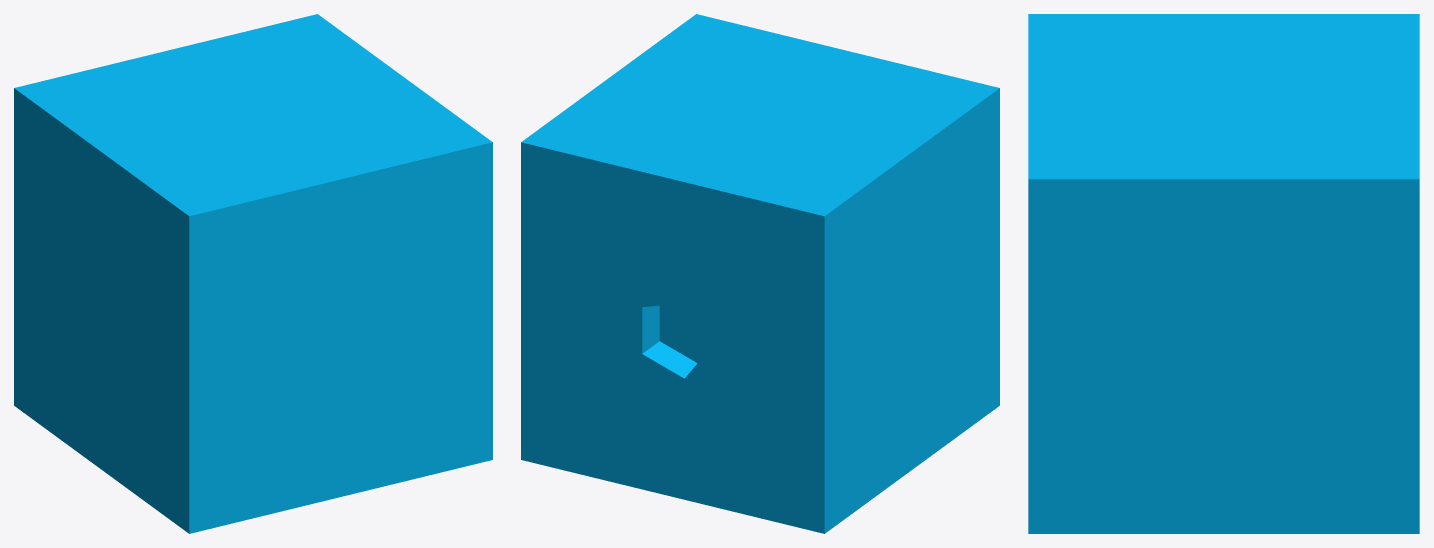
File: gt_Y_arka_yuzey_besgen_cep.gltf
3 views of the same model, side by side, from view 1: azimuth 30°, elevation 25°; view 2: azimuth 150°, elevation 25°; view 3: azimuth 270°, elevation 25° (orthographic). The views are drawn at different scales.
Visible parts, largest first — view 1: Gövde; view 2: Gövde; view 3: Gövde.
Boxes of the visible parts, x1,y1,x2,y2 form: Gövde: (14,14,492,533); Gövde: (521,14,999,533); Gövde: (1028,14,1419,533).
Size of the model in its own units: 0.01 by 0.01 by 0.01.
